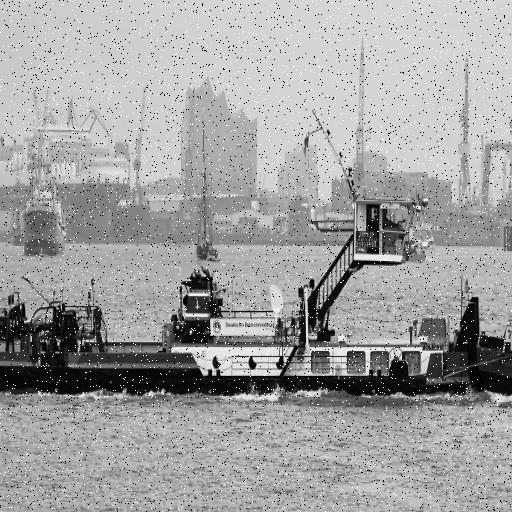tugboat: (1, 108, 482, 411)
